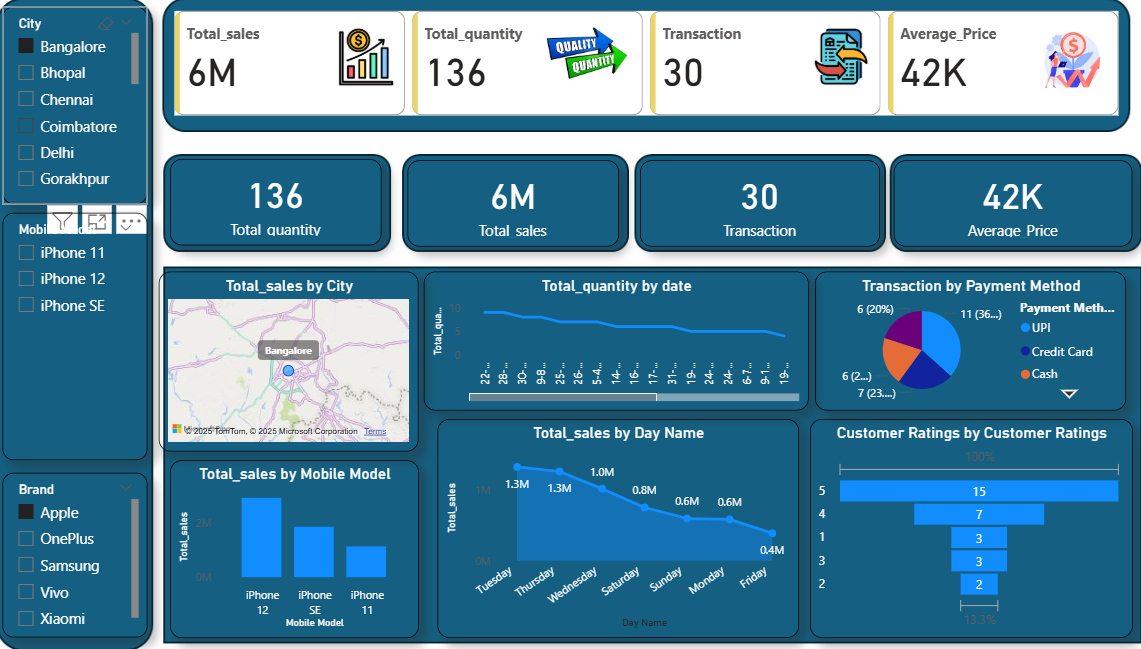

Layout of this report page (visuals, bound fields, positions):
{"tool":"powerbi","page":{"name":"Page 1","canvas":[1280,720],"ordinal":0},"visuals":[{"type":"cardVisual","fields":{"Data":["SalesDay.Total_sales","SalesDay.Total_quantity","SalesDay.Transaction","SalesDay.Average_Price"]},"box":[196.8,13.7,1045.3,124.3],"z":0},{"type":"map","fields":{"Category":["SalesDay.City"],"Size":["SalesDay.Total_sales"]},"box":[184.5,303.3,284.2,196.8],"z":1000},{"type":"columnChart","fields":{"Category":["SalesDay.Mobile Model"],"Y":["SalesDay.Total_sales"]},"box":[196.8,509.7,271.9,194],"z":2000},{"type":"lineChart","fields":{"Category":["SalesDay.date"],"Y":["SalesDay.Total_quantity"]},"box":[474.1,303.3,420.8,151.7],"z":3000},{"type":"pieChart","fields":{"Category":["SalesDay.Payment Method"],"Y":["SalesDay.Transaction"]},"box":[901.8,303.3,340.2,151.7],"z":4000},{"type":"funnel","title":"Customer Ratings by Customer Ratings","fields":{"Category":["SalesDay.Customer Ratings"],"Y":["CountNonNull(SalesDay.Customer Ratings)"]},"box":[896.3,464.6,352.5,239.1],"z":5000},{"type":"areaChart","fields":{"Category":["SalesDay.Day Name"],"Y":["SalesDay.Total_sales"]},"box":[489.2,464.6,394.9,239.1],"z":6000},{"type":"slicer","fields":{"Values":["SalesDay.City"]},"box":[13.7,13.7,158.5,215.9],"z":7000},{"type":"slicer","fields":{"Values":["SalesDay.Brand"]},"box":[13.7,523.3,158.5,180.4],"z":8000},{"type":"card","fields":{"Values":["SalesDay.Total_quantity"]},"box":[196.8,180.4,230.9,94.3],"z":9000},{"type":"card","fields":{"Values":["SalesDay.Total_sales"]},"box":[456.4,181.7,230.9,94.3],"z":10000},{"type":"card","fields":{"Values":["SalesDay.Transaction"]},"box":[710.5,181.7,262.3,94.3],"z":11000},{"type":"card","fields":{"Values":["SalesDay.Average_Price"]},"box":[987.9,181.7,261,94.3],"z":12000},{"type":"slicer","fields":{"Values":["SalesDay.Mobile Model"]},"box":[13.7,239.1,158.5,270.5],"z":13000}]}

Visuals, with their boxes in screenshot pixels (x1, y1, x2, y2), scaled from the page's 1280x720 canvas onto the 1141x649 screenshot:
cardVisual - SalesDay.Total_sales x SalesDay.Total_quantity: [x1=175, y1=12, x2=1107, y2=124]
map - SalesDay.City x SalesDay.Total_sales: [x1=164, y1=273, x2=418, y2=451]
columnChart - SalesDay.Mobile Model x SalesDay.Total_sales: [x1=175, y1=459, x2=418, y2=634]
lineChart - SalesDay.date x SalesDay.Total_quantity: [x1=423, y1=273, x2=798, y2=410]
pieChart - SalesDay.Payment Method x SalesDay.Transaction: [x1=804, y1=273, x2=1107, y2=410]
"Customer Ratings by Customer Ratings" funnel: [x1=799, y1=419, x2=1113, y2=634]
areaChart - SalesDay.Day Name x SalesDay.Total_sales: [x1=436, y1=419, x2=788, y2=634]
slicer - SalesDay.City: [x1=12, y1=12, x2=154, y2=207]
slicer - SalesDay.Brand: [x1=12, y1=472, x2=154, y2=634]
card - SalesDay.Total_quantity: [x1=175, y1=163, x2=381, y2=248]
card - SalesDay.Total_sales: [x1=407, y1=164, x2=613, y2=249]
card - SalesDay.Transaction: [x1=633, y1=164, x2=867, y2=249]
card - SalesDay.Average_Price: [x1=881, y1=164, x2=1113, y2=249]
slicer - SalesDay.Mobile Model: [x1=12, y1=216, x2=154, y2=459]
